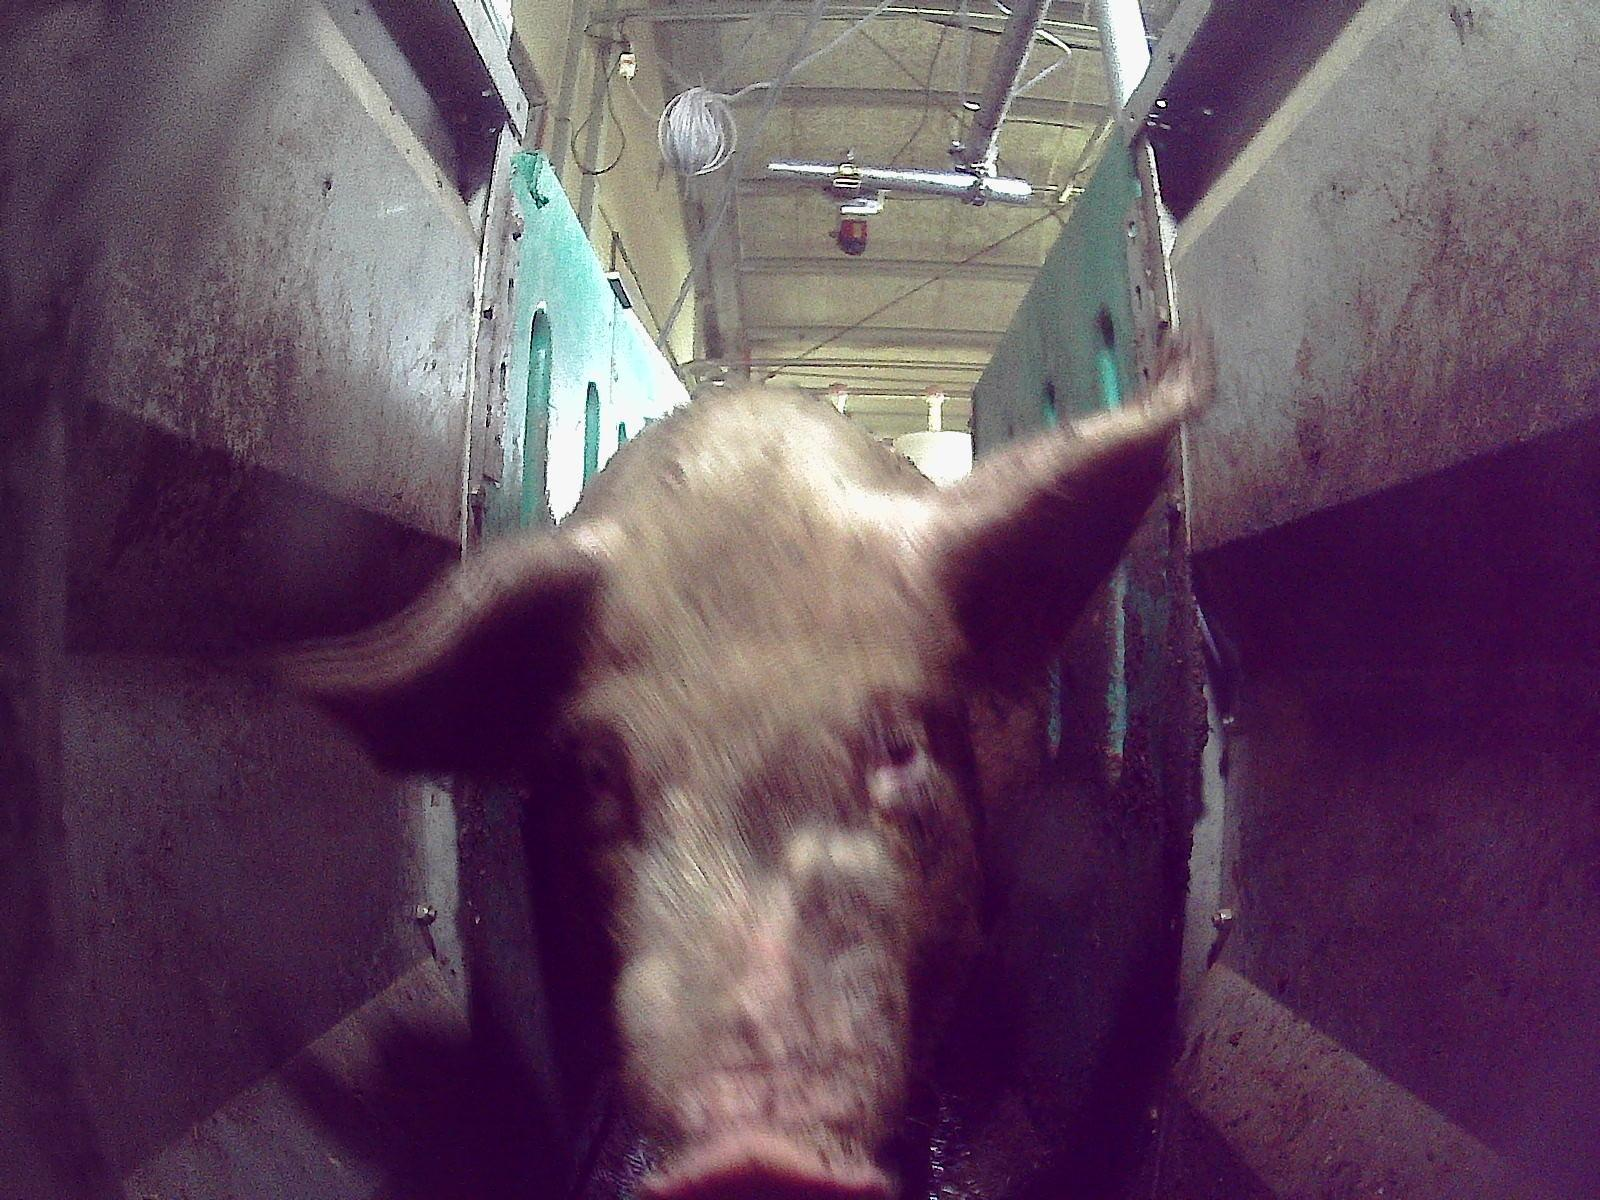Face: (518, 478, 979, 1199)
